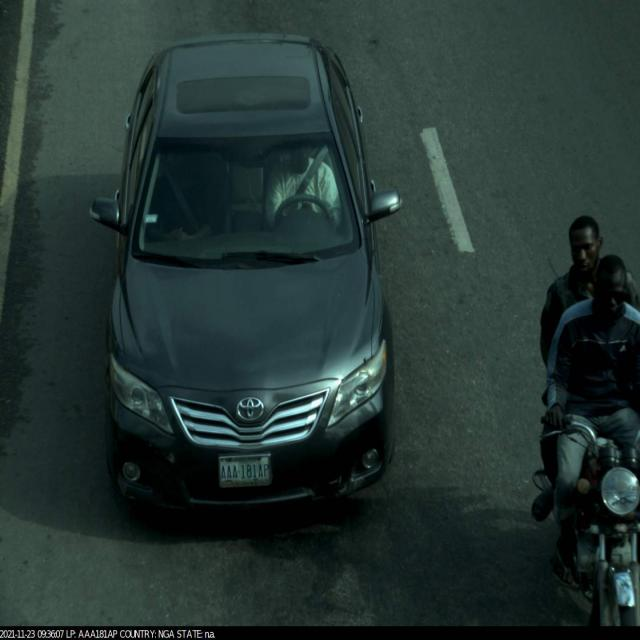windshield: (129, 123, 370, 272)
